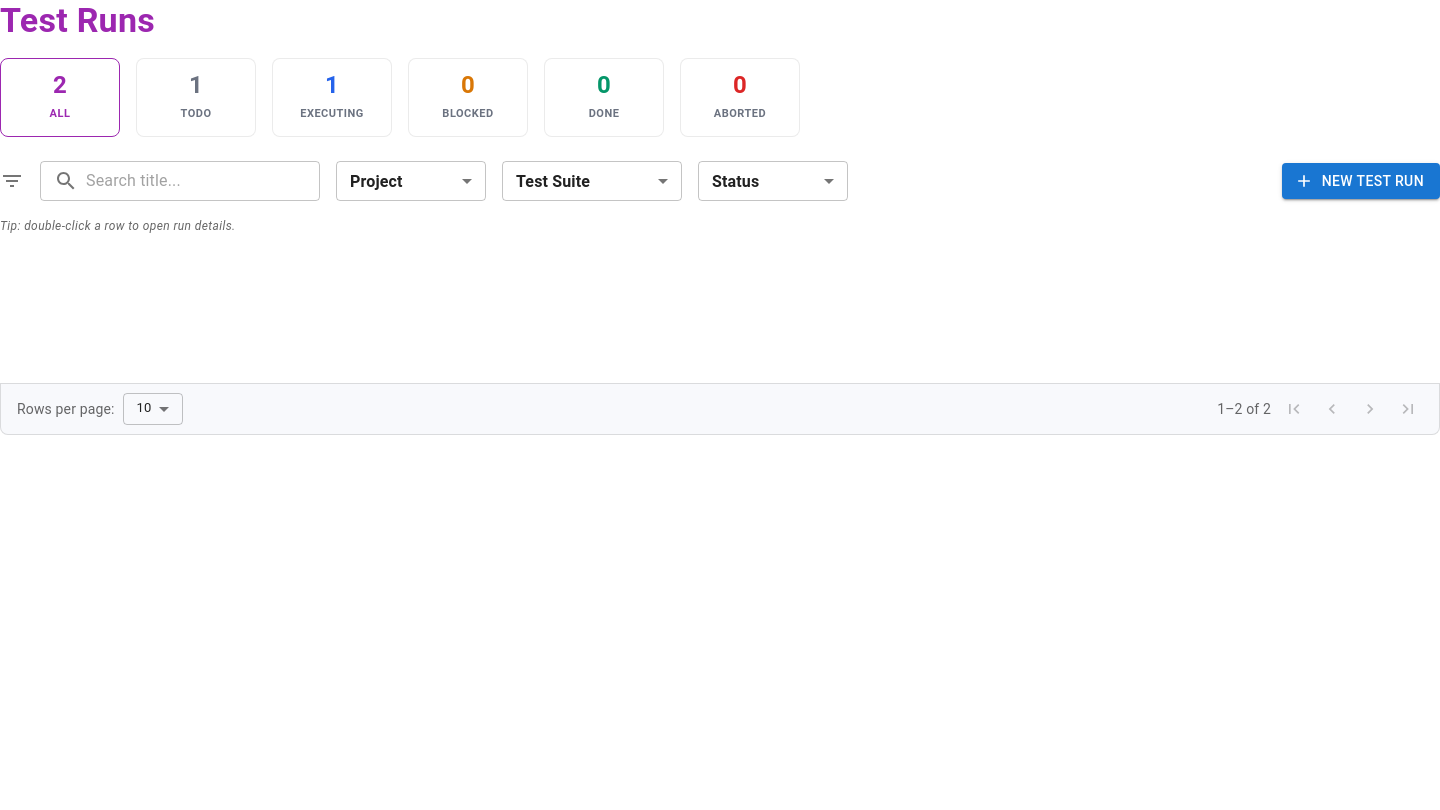
Test: TestRunsPage › opens the New Test Run dialog when editor clicks the button
Click the button "New Test Run" at (1361, 181), box [1282,162,1439,199]
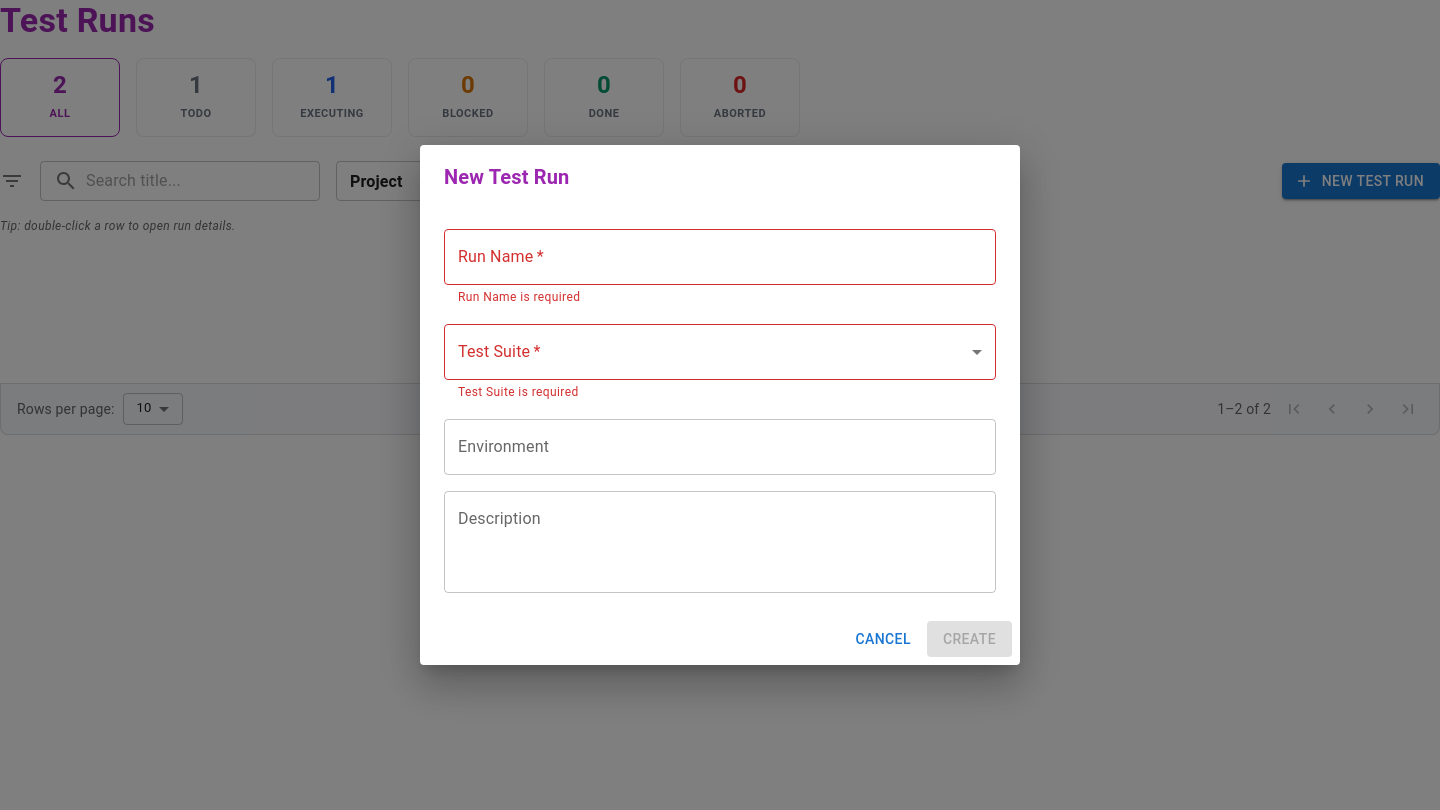
Expected: the heading "New Test Run" is shown, [444,165,569,189]
